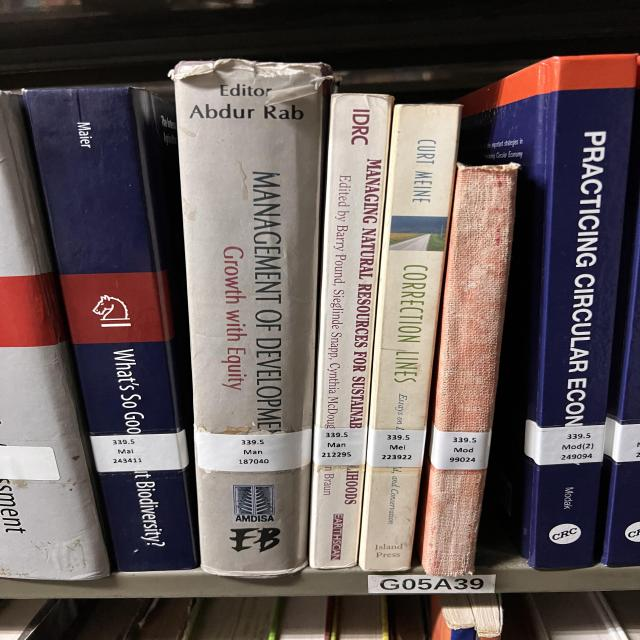Book: (458, 55, 637, 569), (170, 59, 333, 578), (23, 88, 198, 571), (358, 104, 460, 571), (422, 164, 518, 575), (310, 94, 393, 569)
Label: (195, 429, 312, 472), (90, 430, 188, 472), (525, 420, 605, 465), (430, 426, 492, 470), (367, 429, 425, 468), (313, 428, 367, 466)
